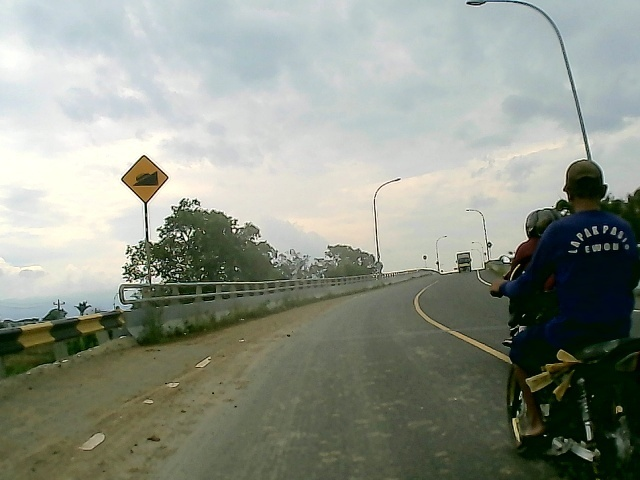Jalanan menanjak: (118, 153, 172, 204)
